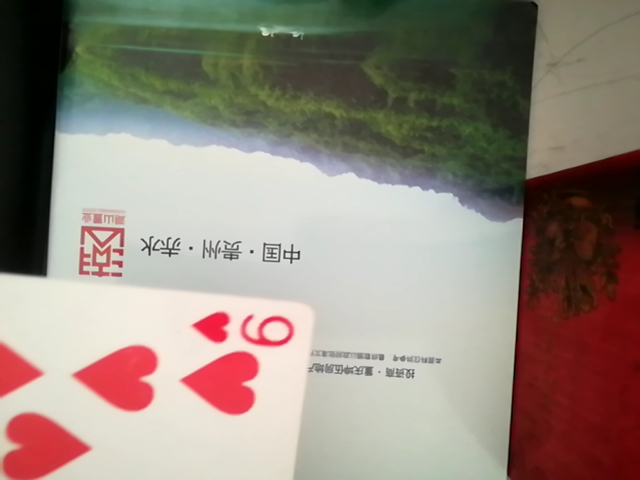hx 9: (0, 266, 316, 480)
